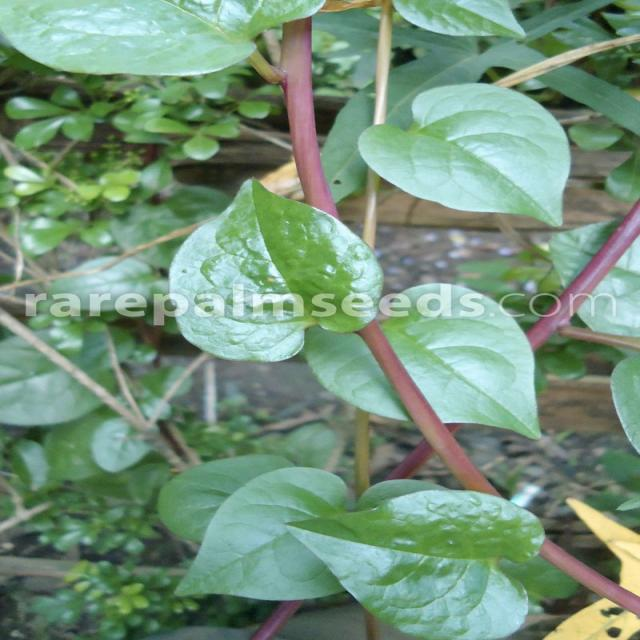Medicinal-Basale: (4, 2, 640, 240), (128, 327, 590, 640)
